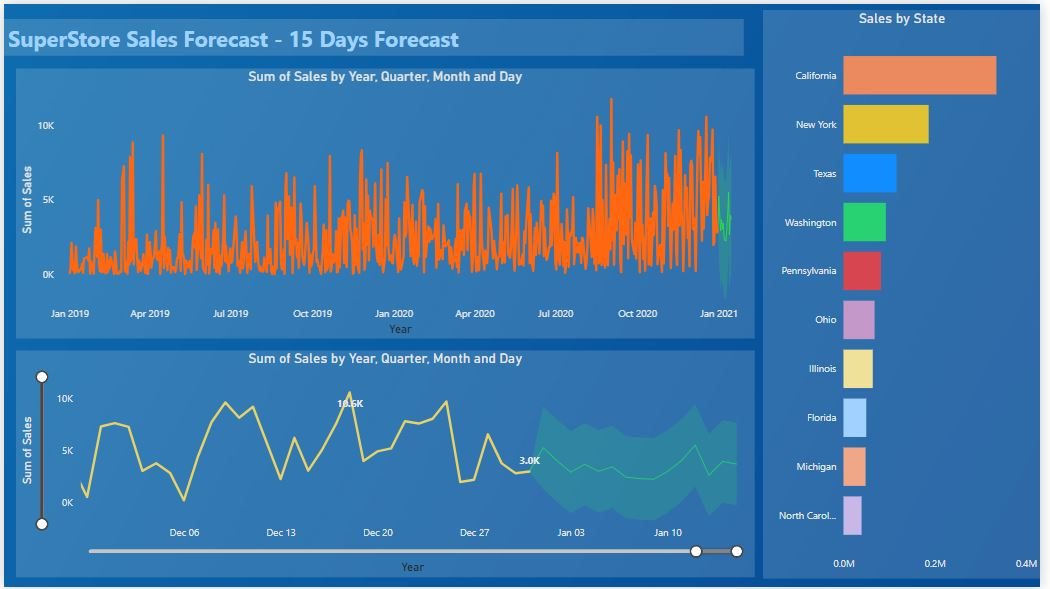

Layout of this report page (visuals, bound fields, positions):
{"tool":"powerbi","page":{"name":"Page 2","canvas":[1280,720],"ordinal":1},"visuals":[{"type":"lineChart","fields":{"Y":["Sum(Sheet1.Sales)"],"Category":["Sheet1.Order Date.Variation.Date Hierarchy.Year","Sheet1.Order Date.Variation.Date Hierarchy.Quarter","Sheet1.Order Date.Variation.Date Hierarchy.Month","Sheet1.Order Date.Variation.Date Hierarchy.Day"]},"box":[15,428.3,911.7,280],"z":0},{"type":"lineChart","fields":{"Y":["Sum(Sheet1.Sales)"],"Category":["Sheet1.Order Date.Variation.Date Hierarchy.Year","Sheet1.Order Date.Variation.Date Hierarchy.Quarter","Sheet1.Order Date.Variation.Date Hierarchy.Month","Sheet1.Order Date.Variation.Date Hierarchy.Day"]},"box":[15,80,911.7,333.3],"z":1000},{"type":"clusteredBarChart","title":"Sales by State","fields":{"Category":["Sheet1.State"],"Y":["Sum(Sheet1.Sales)"]},"box":[936.7,6.7,343.3,701.7],"z":2000},{"type":"textbox","box":[0,18.3,913.3,45],"z":3000}]}

Visuals, with their boxes in screenshot pixels (x1, y1, x2, y2), scaled from the page's 1280x720 canvas onto the 1050x589 screenshot:
lineChart - Sum(Sheet1.Sales) x Sheet1.Order Date.Variation.Date Hierarchy.Year: <box>12,350,760,579</box>
lineChart - Sum(Sheet1.Sales) x Sheet1.Order Date.Variation.Date Hierarchy.Year: <box>12,65,760,338</box>
"Sales by State" clusteredBarChart: <box>768,5,1049,580</box>
textbox: <box>0,15,749,52</box>
